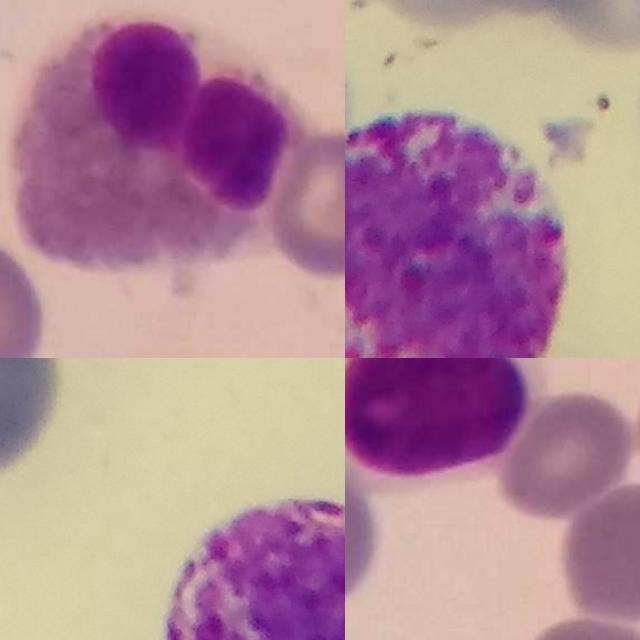Basophil: (345, 107, 569, 358), (159, 494, 345, 640)
Eosinophil: (13, 17, 299, 271)
Lymphocyte: (345, 358, 549, 495)
